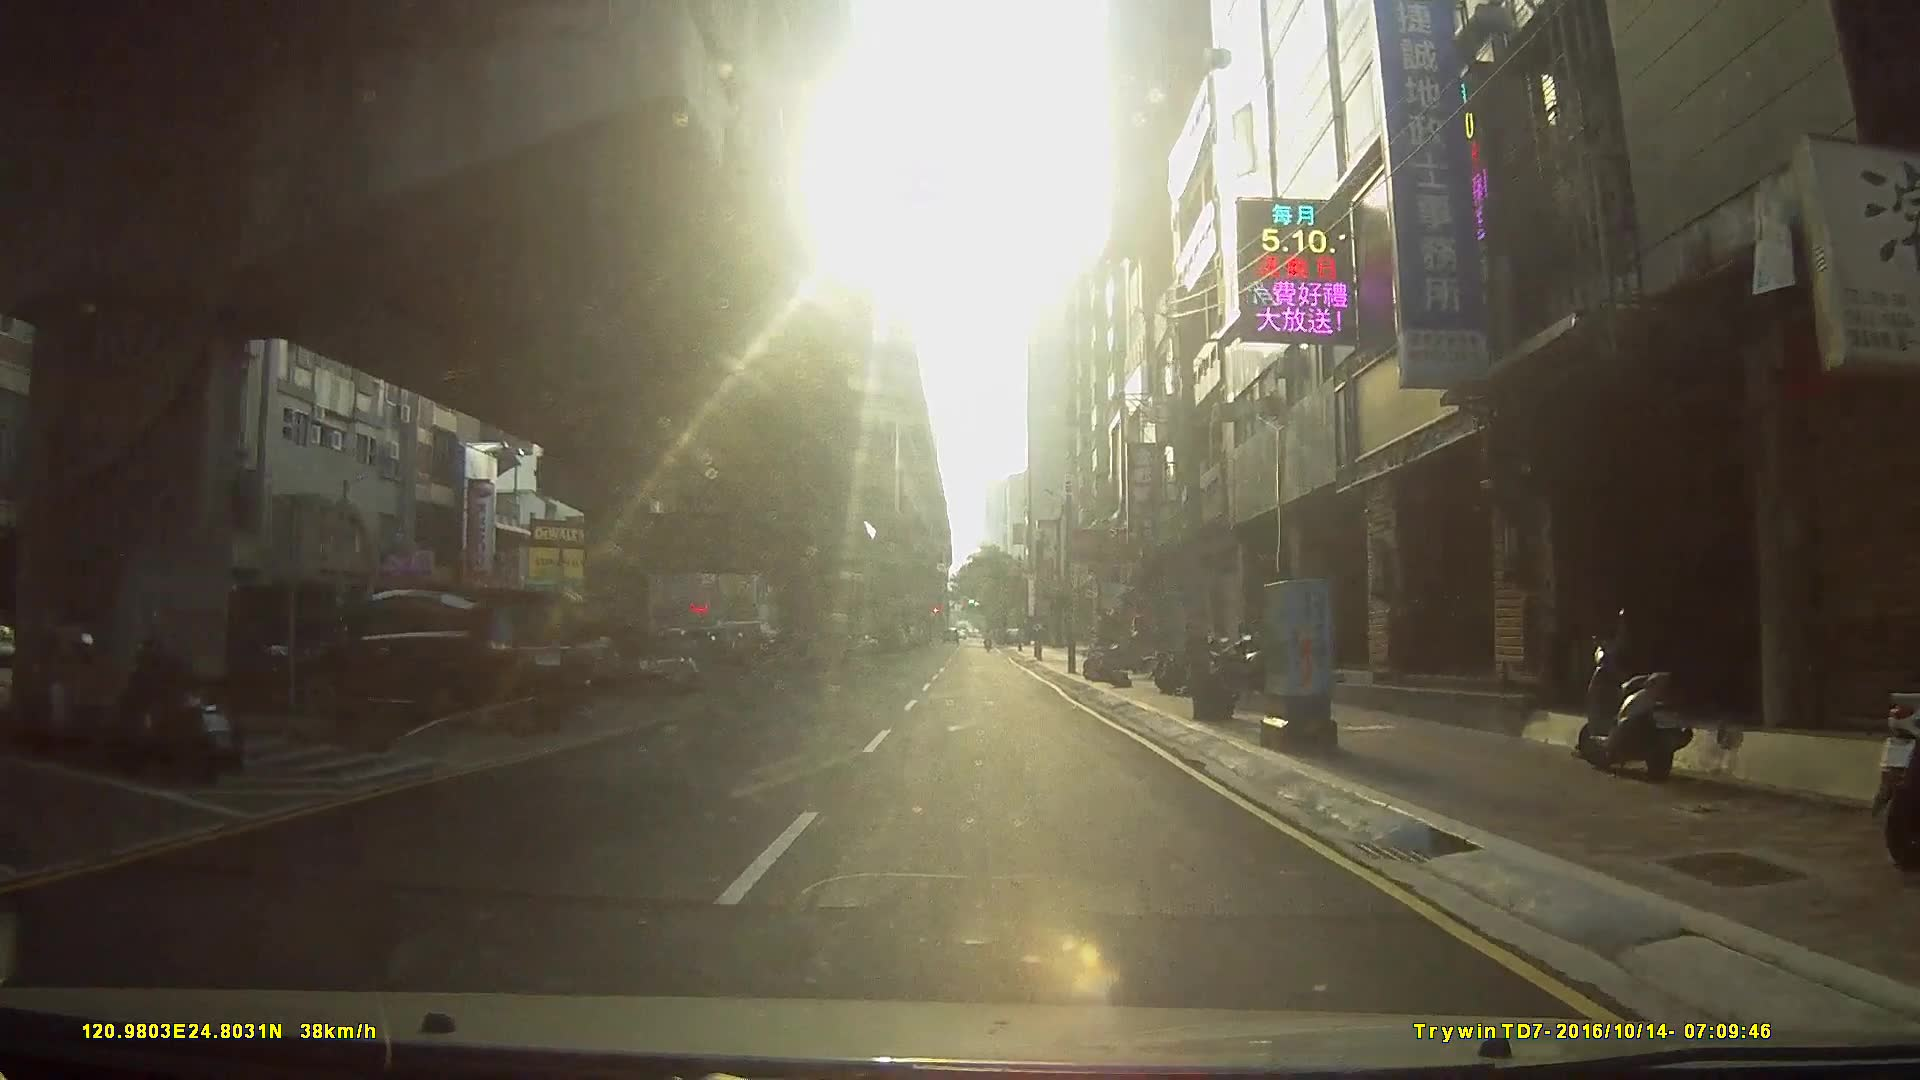vehicle: (291, 582, 588, 729), (152, 575, 339, 703), (568, 620, 695, 694)
